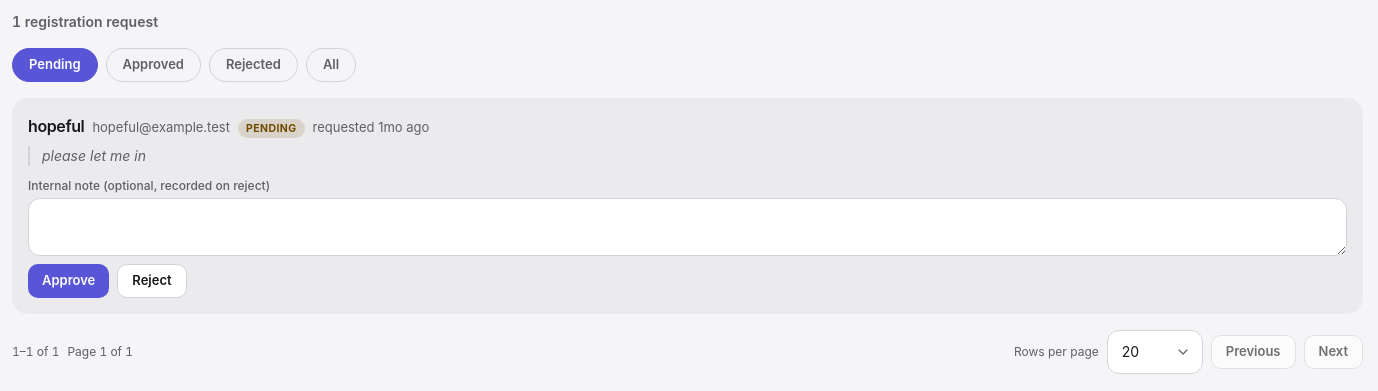
Scenario: AdminRegistrationRequestsView in-place resolution › keeps an approved request visible in place instead of dropping it from the Pending queue
expect the text "hopeful@example.test" is shown: met, box [92,118,230,137]
expect the text "pending" is shown: met, box [238,118,304,138]
Step 1. Click the button with aria-label "Approve hopeful" → (69, 281), box [28,264,109,298]
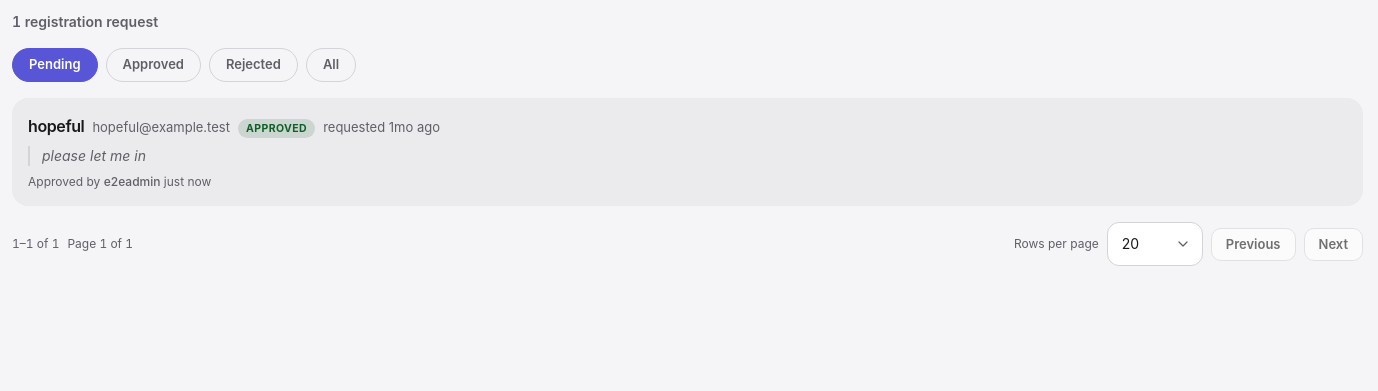
expect the text "hopeful@example.test" is shown: met, box [92,118,230,137]
expect the text "approved" is shown: met, box [238,118,315,138]
expect the text "e2eadmin" is shown: met, box [104,174,160,189]
